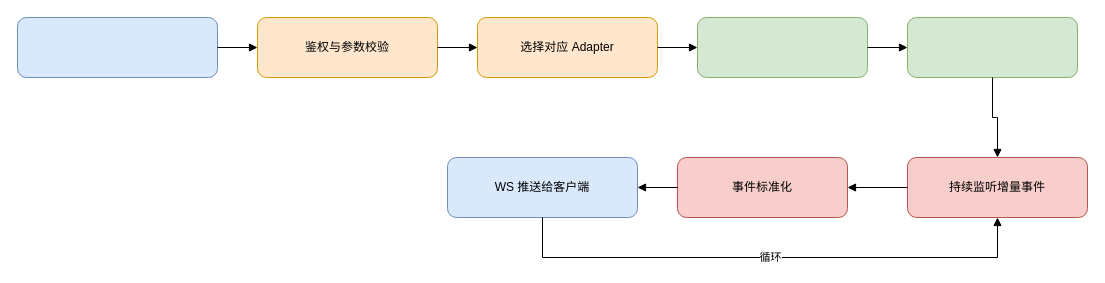
This 1105x283 diagram has some shape labels left out. Here are the shapes that lost their labels. From the top down, the centre of each, then its label:
At point 117,47: "前端订阅 adapter+session".
At point 782,47: "读取历史快照".
At point 992,47: "返回初始事件".
